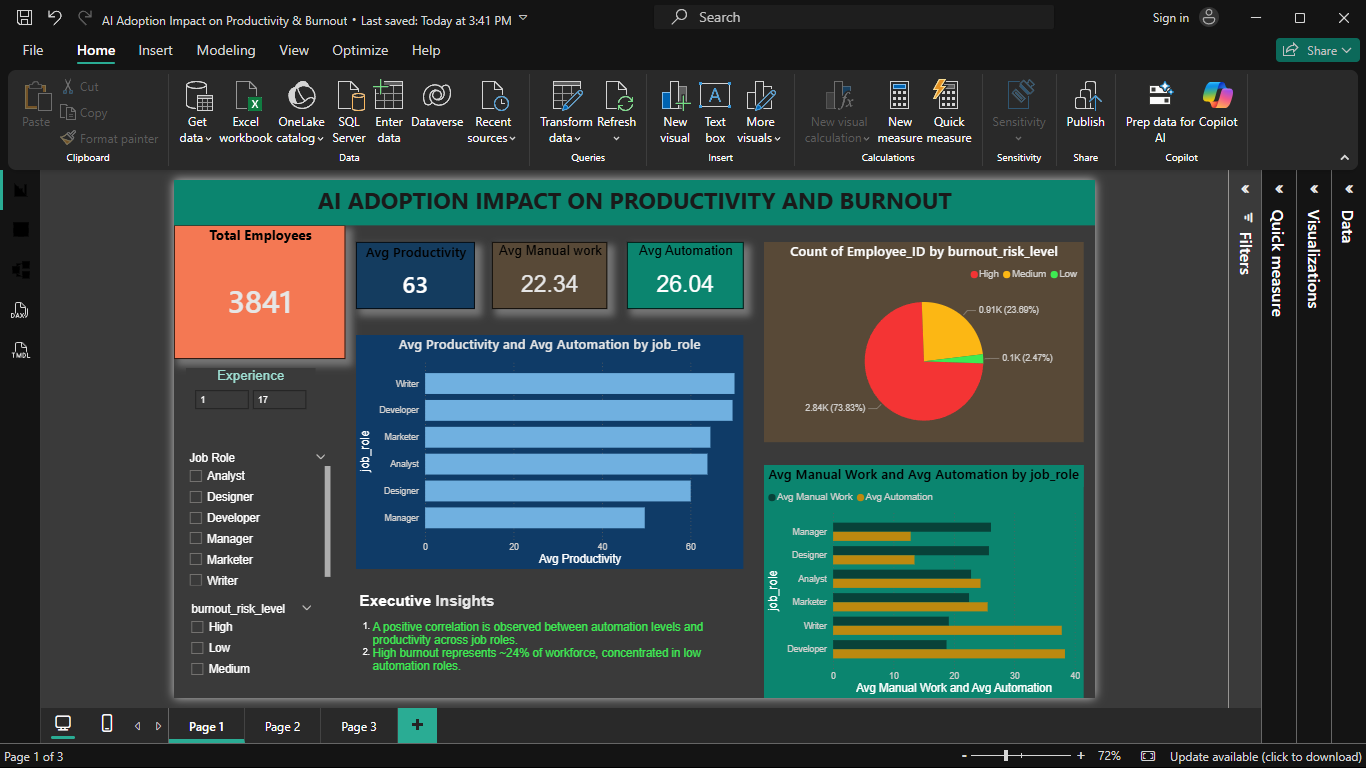

Layout of this report page (visuals, bound fields, positions):
{"tool":"powerbi","page":{"name":"Page 1","canvas":[1280,720],"ordinal":0},"visuals":[{"type":"card","title":"Total Employees","fields":{"Values":["ai_productivity and tools usage.Total Employees"]},"box":[0,63,238.3,185.9],"z":0},{"type":"card","title":"Avg Productivity","fields":{"Values":["ai_productivity and tools usage.Avg Productivity"]},"box":[253.3,85.4,164.9,92.9],"z":1000},{"type":"card","title":"Avg Manual work","fields":{"Values":["ai_productivity and tools usage.Avg Manual Work"]},"box":[442.2,85.4,160.4,92.9],"z":2000},{"type":"card","title":"Avg Automation","fields":{"Values":["ai_productivity and tools usage.Avg Automation"]},"box":[629.5,85.4,161.9,92.9],"z":3000},{"type":"clusteredBarChart","fields":{"Category":["ai_productivity and tools usage.job_role"],"Y":["ai_productivity and tools usage.Avg Manual Work","ai_productivity and tools usage.Avg Automation"]},"box":[819.9,395.7,443.7,323.7],"z":4000},{"type":"clusteredBarChart","fields":{"Category":["ai_productivity and tools usage.job_role"],"Y":["ai_productivity and tools usage.Avg Productivity"]},"box":[253.3,215.8,538.1,325.2],"z":5000},{"type":"pieChart","fields":{"Category":["ai_productivity and tools usage.burnout_risk_level"],"Y":["CountNonNull(ai_productivity and tools usage.Employee_ID)"]},"box":[819.9,82.4,443.7,277.3],"z":6000},{"type":"slicer","title":"Experience","fields":{"Values":["ai_productivity and tools usage.experience_years"]},"box":[16.5,260.8,179.9,88.4],"z":7000},{"type":"slicer","fields":{"Values":["ai_productivity and tools usage.burnout_risk_level"]},"box":[10.5,581.5,191.9,124.4],"z":8000},{"type":"slicer","title":"Job Role","fields":{"Values":["ai_productivity and tools usage.job_role"]},"box":[9,371.7,214.3,196.3],"z":9000},{"type":"actionButton","box":[0,0,100,40],"z":10000},{"type":"textbox","box":[253.3,568.1,551.6,151.4],"z":11000},{"type":"textbox","box":[0,0,1280,63],"z":11001}]}

Visuals, with their boxes on the page's 1280x720 design canvas (x1, y1, x2, y2). These are canvas units, not pixel positions in the 1366x768 screenshot, which may show the page scaled, cropped or inside an application window:
"Total Employees" card: x1=0 y1=63 x2=238 y2=249
"Avg Productivity" card: x1=253 y1=85 x2=418 y2=178
"Avg Manual work" card: x1=442 y1=85 x2=603 y2=178
"Avg Automation" card: x1=630 y1=85 x2=791 y2=178
clusteredBarChart - ai_productivity and tools usage.job_role x ai_productivity and tools usage.Avg Manual Work: x1=820 y1=396 x2=1264 y2=719
clusteredBarChart - ai_productivity and tools usage.job_role x ai_productivity and tools usage.Avg Productivity: x1=253 y1=216 x2=791 y2=541
pieChart - ai_productivity and tools usage.burnout_risk_level x CountNonNull(ai_productivity and tools usage.Employee_ID): x1=820 y1=82 x2=1264 y2=360
"Experience" slicer: x1=16 y1=261 x2=196 y2=349
slicer - ai_productivity and tools usage.burnout_risk_level: x1=10 y1=582 x2=202 y2=706
"Job Role" slicer: x1=9 y1=372 x2=223 y2=568
actionButton: x1=0 y1=0 x2=100 y2=40
textbox: x1=253 y1=568 x2=805 y2=720
textbox: x1=0 y1=0 x2=1280 y2=63
